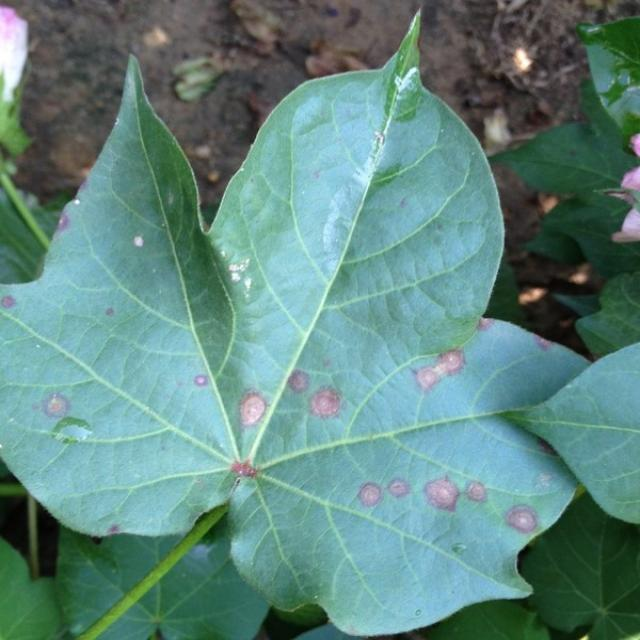Cotton Ball Rot: (419, 474, 462, 515), (305, 384, 346, 423), (233, 388, 270, 431), (353, 479, 385, 511)
Target Spot: (0, 11, 614, 638)
